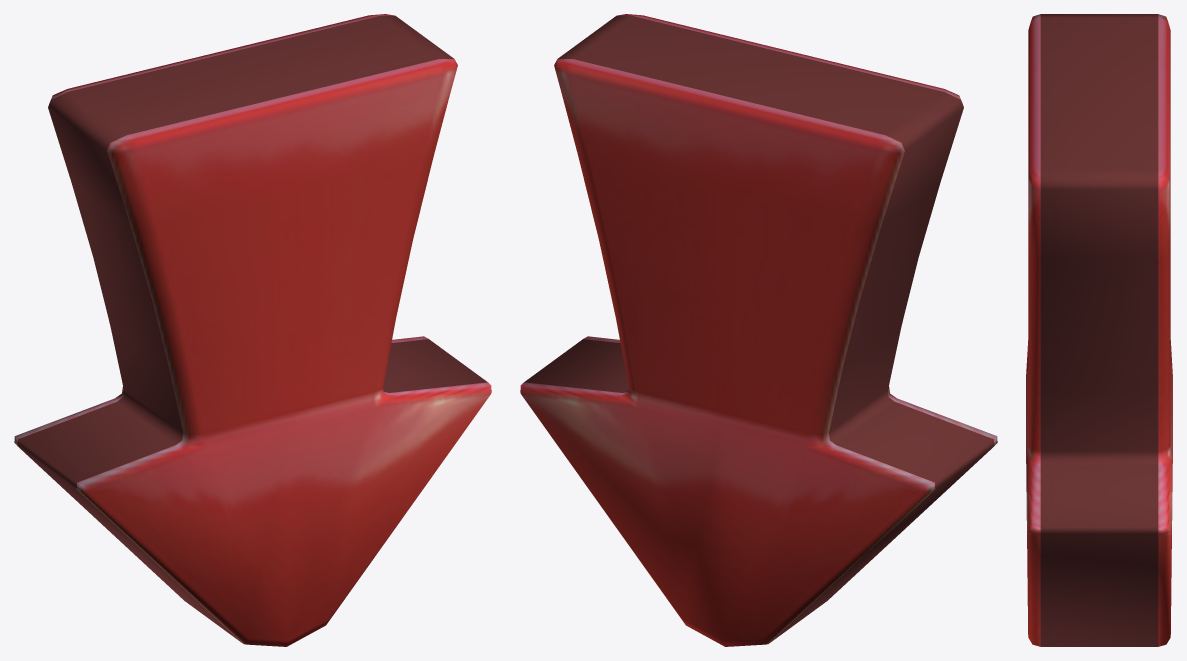
Rendered from biaoji.FBX.
The picture shows the model from 3 angles, left to right: view 1: azimuth 30°, elevation 25°; view 2: azimuth 150°, elevation 25°; view 3: azimuth 270°, elevation 25°; orthographic projection.
Parts seen in each view (by area): view 1: biaoji; view 2: biaoji; view 3: biaoji.
Part boxes in pixels (x1=…): biaoji: x1=14, y1=14, x2=491, y2=646; biaoji: x1=520, y1=14, x2=997, y2=646; biaoji: x1=1026, y1=14, x2=1172, y2=646.
Bounding box in the file's own units: 0.8231 × 1.05 × 0.2558.
1 material, 1 textured.
